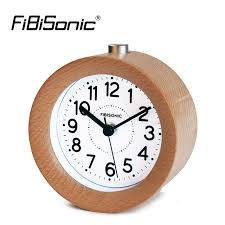alarm_clock: (20, 45, 197, 211), (25, 45, 197, 211)
